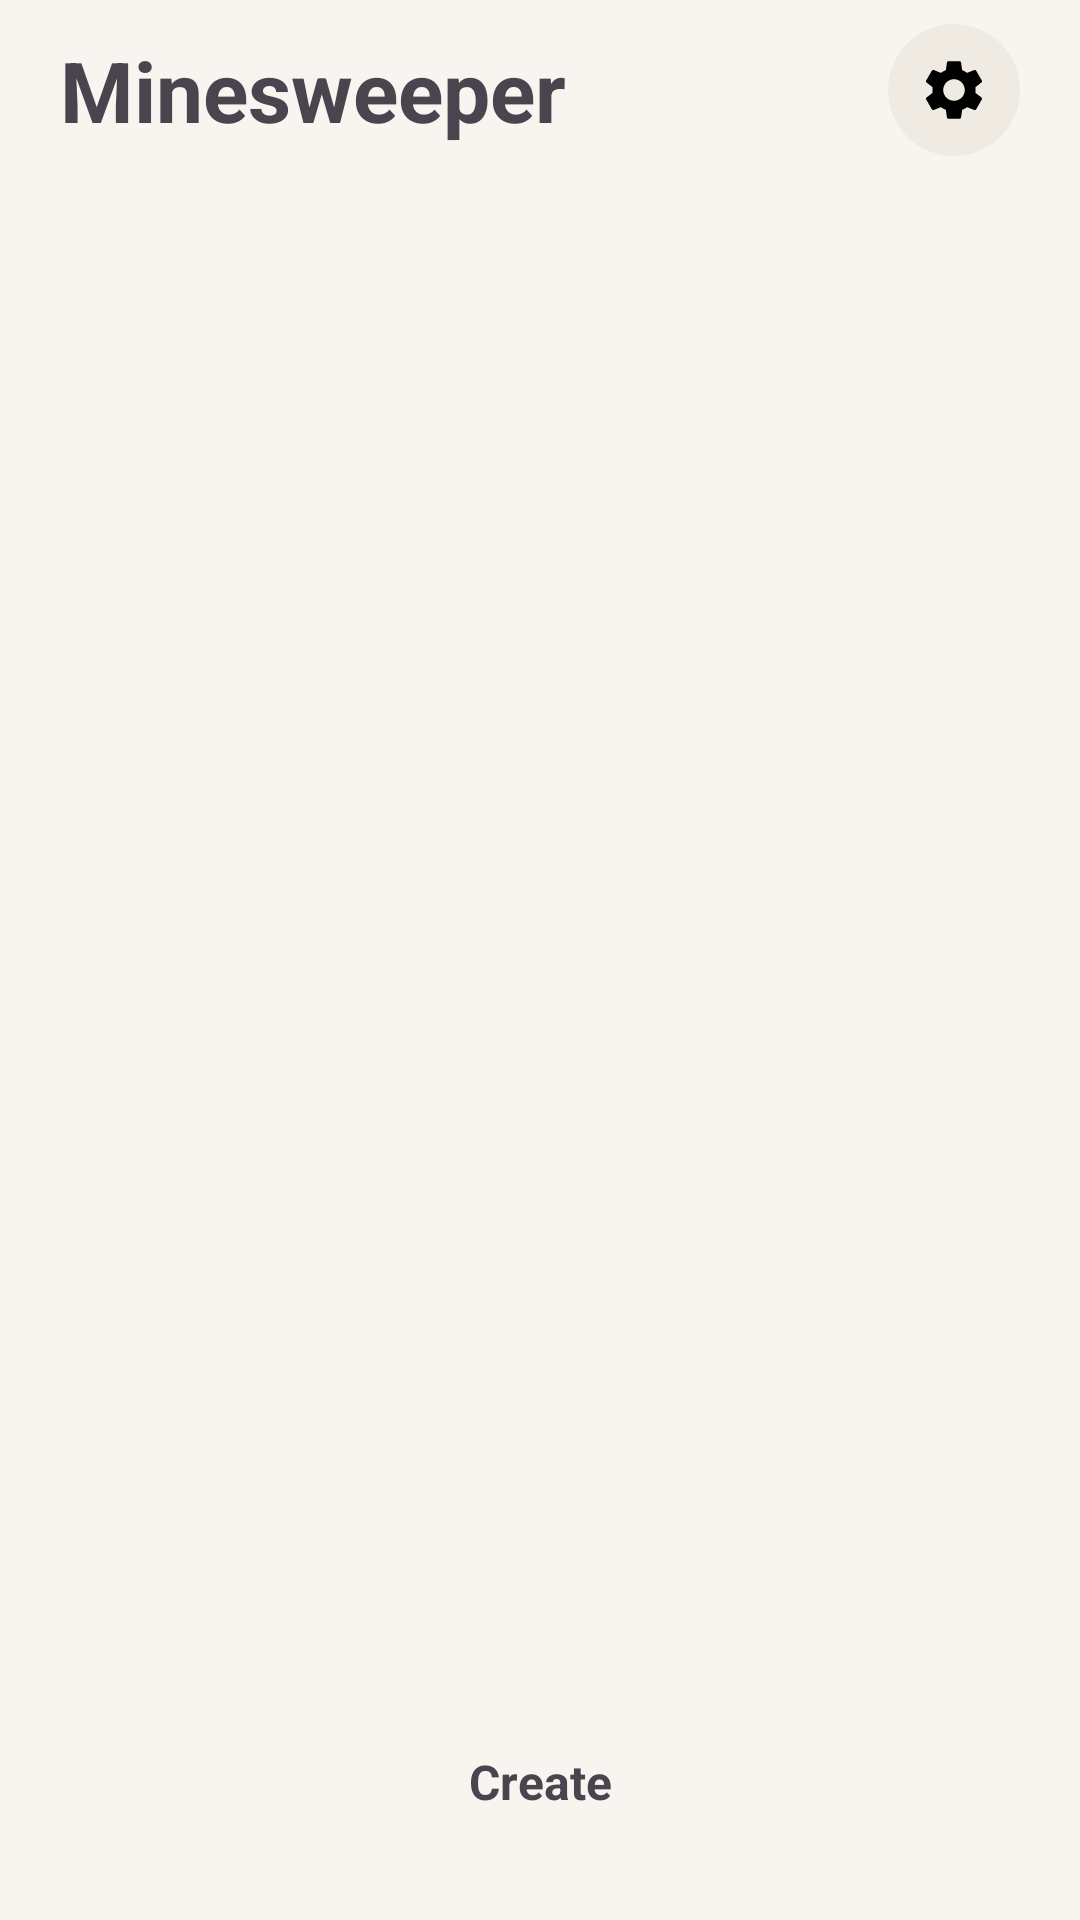

Point at icon controls on the screen. Image size 1080x1920, points as (x=x, y=y).
Settings: (x=954, y=90)
